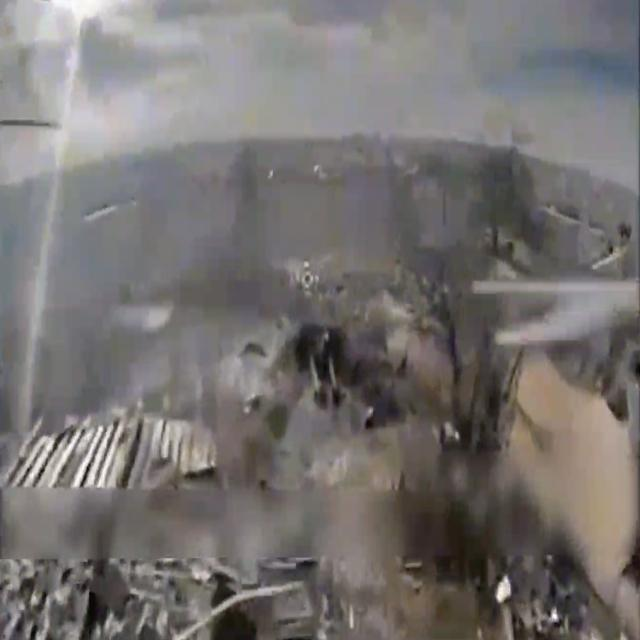vehicle: (258, 284, 406, 453)
